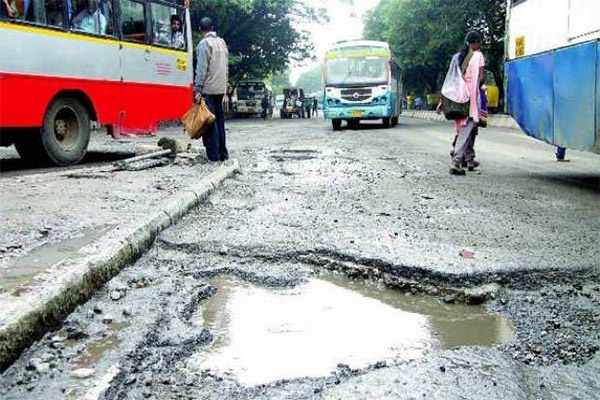pothole: (168, 234, 503, 388)
